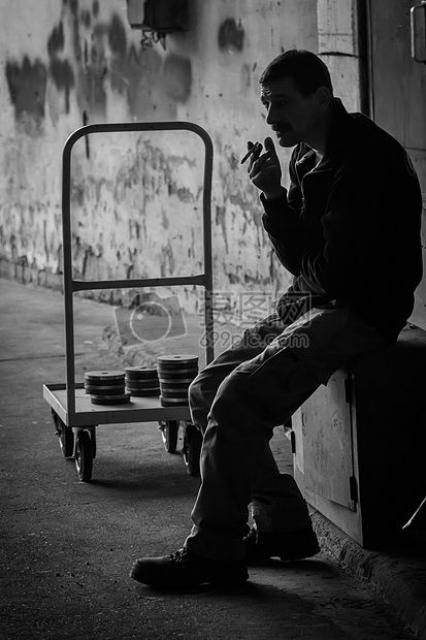Cigarette: (234, 138, 260, 168)
